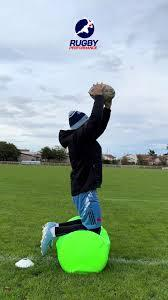ballon_rugby: (88, 82, 116, 106)
